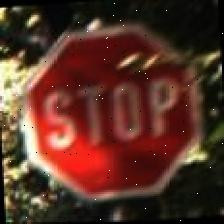Stop: (14, 12, 210, 210)
